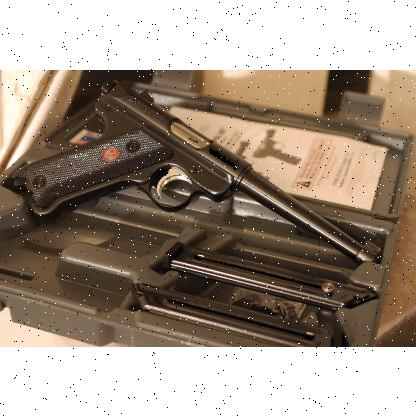gun: (10, 74, 382, 262)
